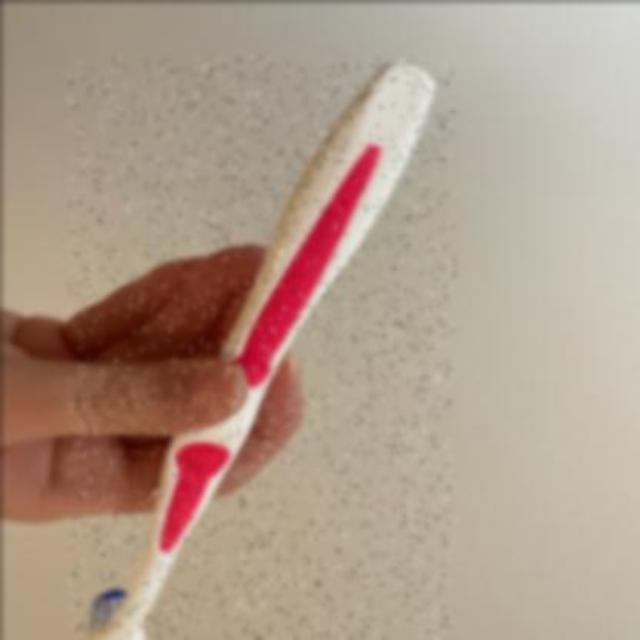toothbrush: (68, 56, 454, 640)
